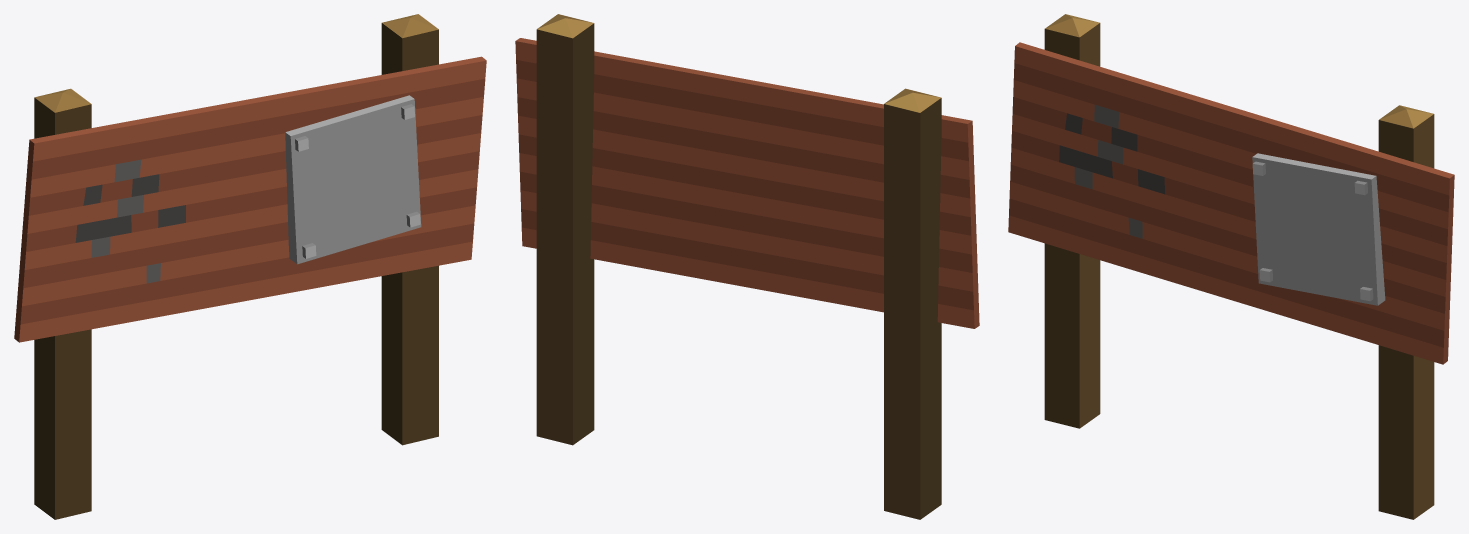
The model's file is FenceSmall_02.fbx.
3 views of the same model, side by side, from view 1: azimuth 30°, elevation 25°; view 2: azimuth 150°, elevation 25°; view 3: azimuth 330°, elevation 25° (orthographic). The views are drawn at different scales.
Parts seen in each view (by area): view 1: FenceSmall_02; view 2: FenceSmall_02; view 3: FenceSmall_02.
Part boxes in pixels (bbox=[...]): FenceSmall_02: bbox=[14, 14, 486, 519]; FenceSmall_02: bbox=[515, 14, 979, 519]; FenceSmall_02: bbox=[1008, 14, 1454, 519].
Size of the model in its own units: 3.56 by 0.4586 by 3.12.
